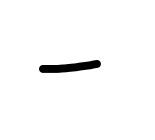minus: (37, 61, 104, 73)
